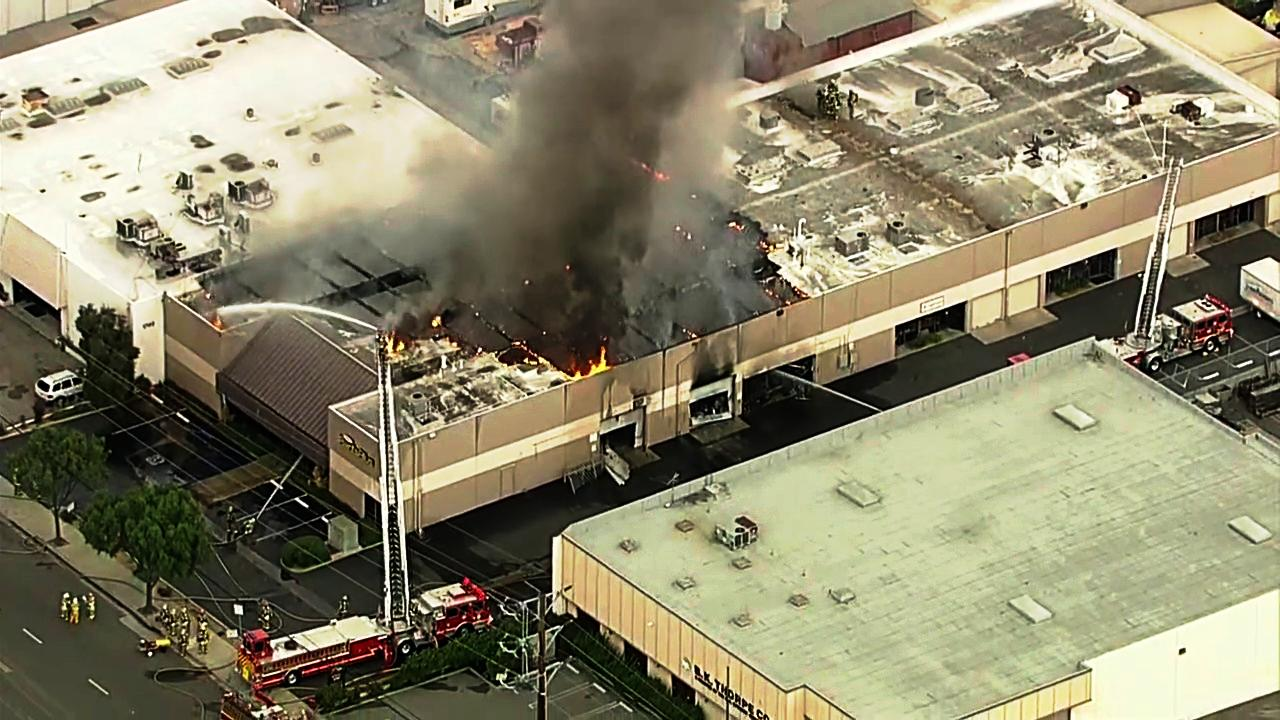smoke: (535, 0, 743, 293)
